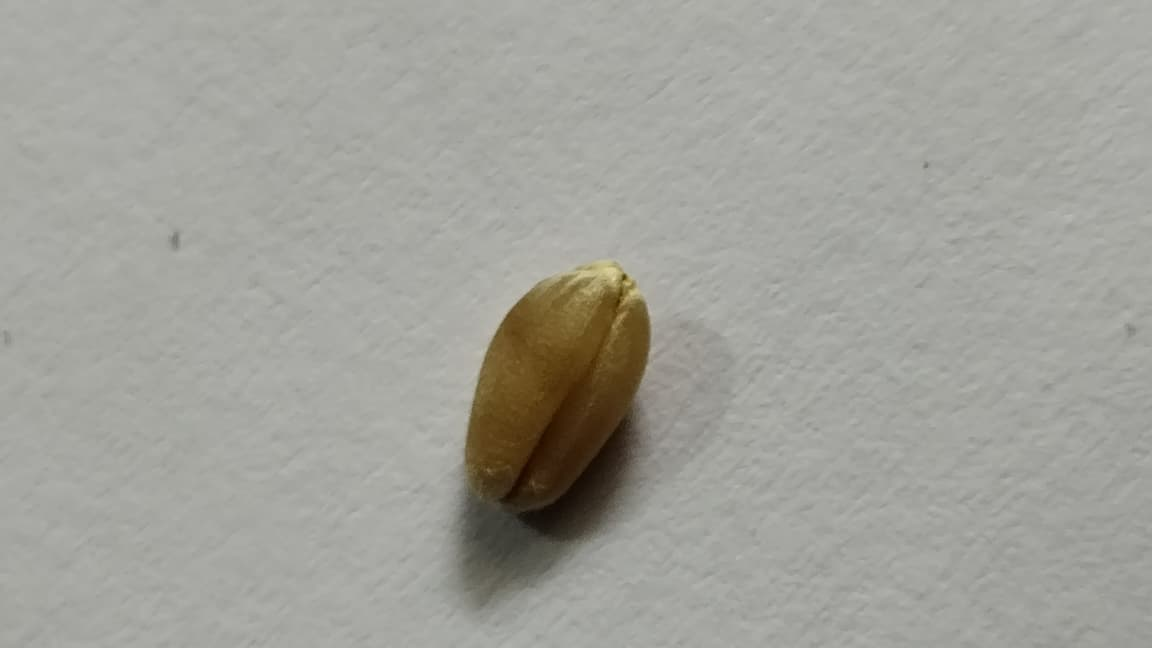healthy: (466, 261, 649, 507)
